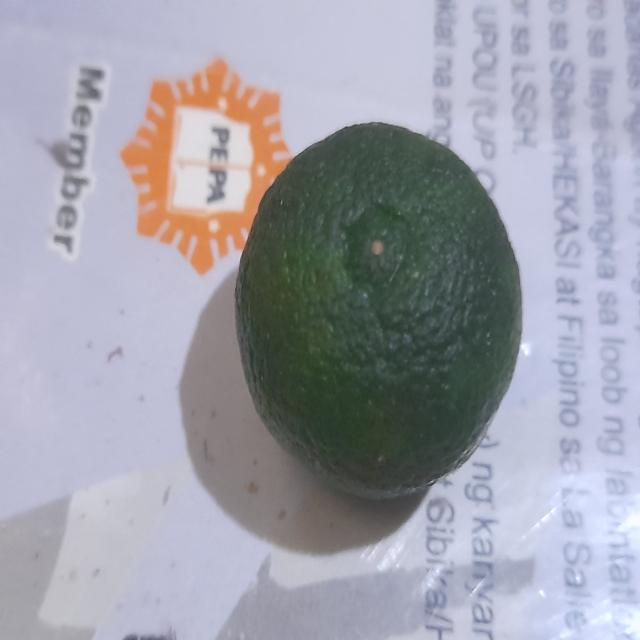heathy: (237, 111, 528, 499)
